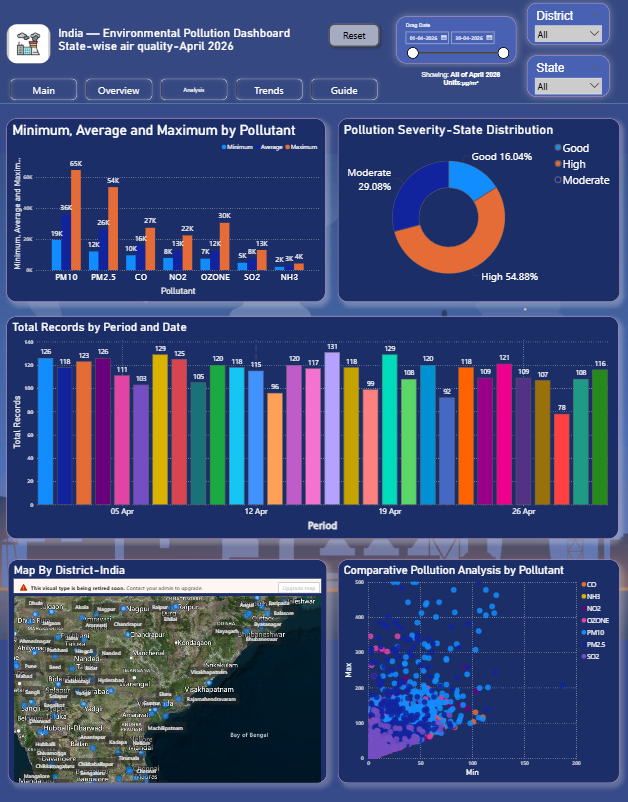

This screenshot's page, from the dashboard's own definition file:
{"tool":"powerbi","page":{"name":"Analysis","canvas":[1415,1790],"ordinal":2},"visuals":[{"type":"shape","box":[0,0,1414,238],"z":0},{"type":"textbox","title":"India — Environmental Pollution Dashboard  State-wise air quality-April 2026","box":[132,62,530,94],"z":1000},{"type":"clusteredColumnChart","fields":{"Category":["Sheet1.Pollutant"],"Y":["Sum(Sheet1.Min)","Sum(Sheet1.Avg)","Sum(Sheet1.Max)"]},"box":[24.3,270,708.6,407.1],"z":2000},{"type":"donutChart","title":"Pollution Severity-State Distribution","fields":{"Y":["Sum(Sheet1.Min)","Sum(Sheet1.Max)","Sum(Sheet1.Avg)"]},"box":[758.6,270,625.7,407.1],"z":3000},{"type":"columnChart","fields":{"Category":["Sheet1.Period"],"Y":["Sheet1.Total Records"],"Series":["DateTable.Date"]},"box":[24.3,710,1360,494.3],"z":4000},{"type":"map","title":"Map By District-India","fields":{"Category":["Sheet1.District"]},"box":[25,1248.3,708.3,496.7],"z":5000},{"type":"pageNavigator","box":[24,174,834,64],"z":6000},{"type":"slicer","fields":{"Values":["Sheet1.Period"]},"box":[890,43.8,266.2,103.8],"z":7000},{"type":"slicer","fields":{"Values":["Sheet1.District"]},"box":[1180,13.3,183.3,93.3],"z":8000},{"type":"slicer","fields":{"Values":["Sheet1.State"]},"box":[1180,128.3,183.3,91.7],"z":9000},{"type":"image","box":[24,60,98,88],"z":10000},{"type":"textbox","box":[898.8,157.5,266.2,48.8],"z":11000},{"type":"scatterChart","title":"Comparative Pollution Analysis by Pollutant","fields":{"Y":["Sheet1.Max"],"X":["Sheet1.Min"],"Series":["Sheet1.Pollutant"]},"box":[758.3,1248.3,625,496.7],"z":12000},{"type":"actionButton","box":[730,50,131.7,70],"z":12001}]}

Visuals, with their boxes in screenshot pixels (x1, y1, x2, y2), scaled from the page's 1415x1790 canvas onto the 628x802 screenshot:
shape: 0 0 627 107
"India — Environmental Pollution Dashboard  State-wise air quality-April 2026" textbox: 59 28 294 70
clusteredColumnChart - Sheet1.Pollutant x Sum(Sheet1.Min): 11 121 325 303
"Pollution Severity-State Distribution" donutChart: 337 121 614 303
columnChart - Sheet1.Period x Sheet1.Total Records: 11 318 614 540
"Map By District-India" map: 11 559 325 782
pageNavigator: 11 78 381 107
slicer - Sheet1.Period: 395 20 513 66
slicer - Sheet1.District: 524 6 605 48
slicer - Sheet1.State: 524 57 605 99
image: 11 27 54 66
textbox: 399 71 517 92
"Comparative Pollution Analysis by Pollutant" scatterChart: 337 559 614 782
actionButton: 324 22 382 54
